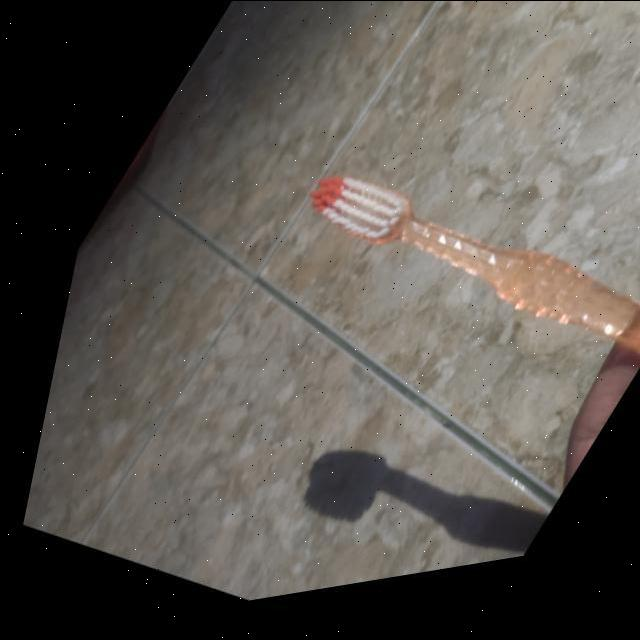toothbrush: (202, 96, 640, 468)
